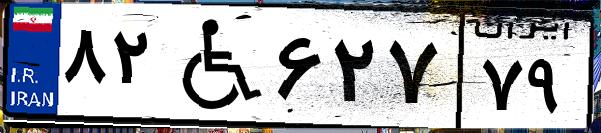2: (330, 28, 385, 110), (110, 28, 158, 98)
6: (270, 28, 330, 110)
7: (385, 28, 445, 110), (475, 38, 525, 113)
8: (57, 26, 110, 100)
9: (525, 38, 570, 115)
ژ (معلولین و جانبازان): (158, 12, 270, 120)
